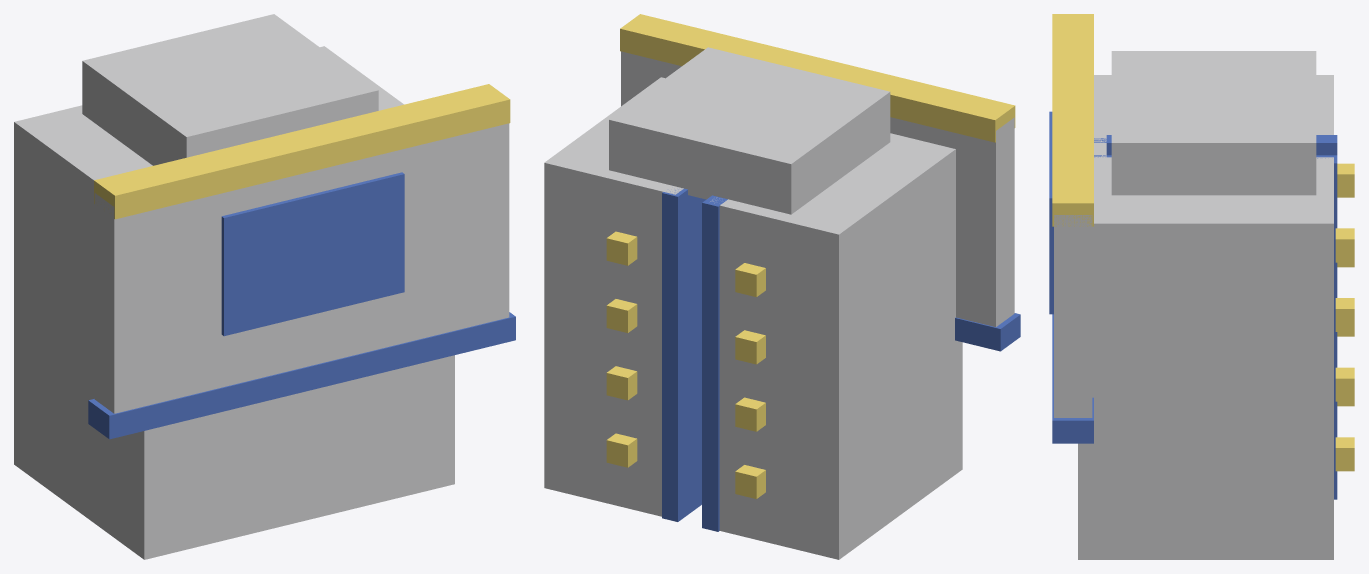
Rendered from marinha_branco_tronco.glb.
3 views of the same model, side by side, from view 1: azimuth 30°, elevation 25°; view 2: azimuth 150°, elevation 25°; view 3: azimuth 270°, elevation 25° (orthographic). The views are drawn at different scales.
Visible parts, largest first — view 1: marinha_branco_tronco; view 2: marinha_branco_tronco; view 3: marinha_branco_tronco.
Boxes of the visible parts, x1,y1,x2,y2 form: marinha_branco_tronco: [14, 14, 515, 559]; marinha_branco_tronco: [544, 14, 1020, 559]; marinha_branco_tronco: [1049, 14, 1354, 559].
Size of the model in its own units: 0.72 by 0.67 by 0.4775.
